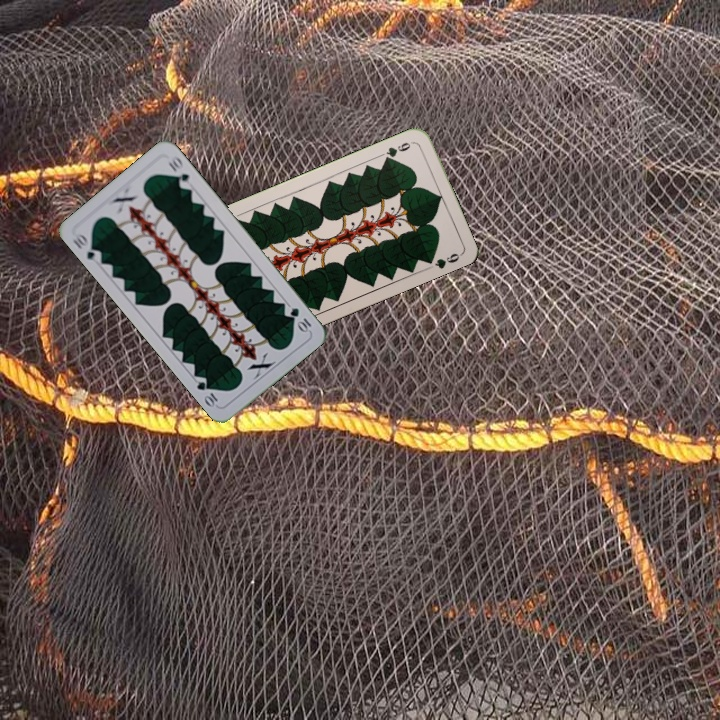G10: (69, 228, 105, 266), (286, 303, 314, 335)
G9: (380, 137, 416, 164)
